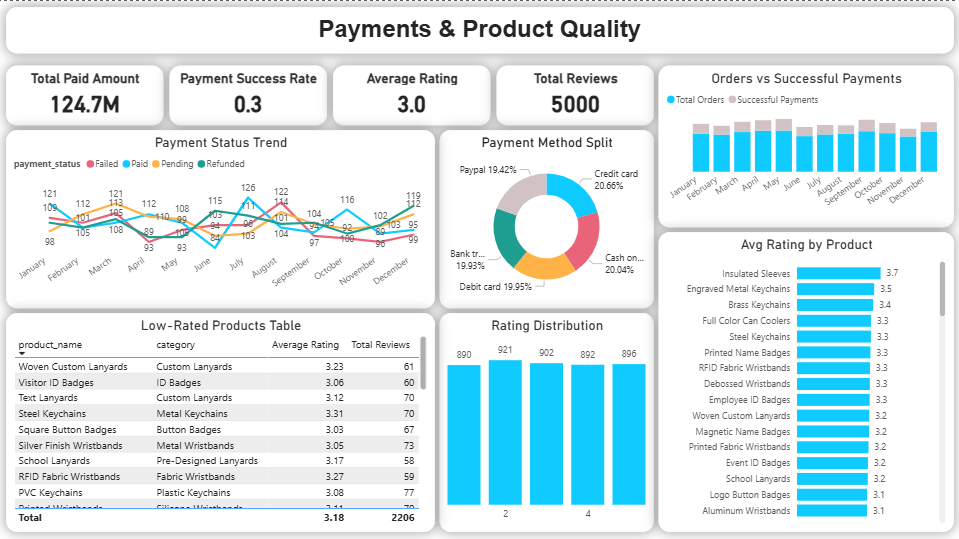

This screenshot's page, from the dashboard's own definition file:
{"tool":"powerbi","page":{"name":"Page 3","canvas":[1280,720],"ordinal":2},"visuals":[{"type":"textbox","box":[8,8,1264,62],"z":0},{"type":"card","title":"Total Paid Amount","fields":{"Values":["wrist_band payments_clean.Total Paid Amount"]},"box":[8,86,210,80],"z":1000},{"type":"card","title":"Payment Success Rate","fields":{"Values":["wrist_band payments_clean.Payment Success Rate"]},"box":[226,86,210,80],"z":2000},{"type":"card","title":"Average Rating","fields":{"Values":["wrist_band reviews_clean.Average Rating"]},"box":[444,86,210,80],"z":3000},{"type":"card","title":"Total Reviews","fields":{"Values":["wrist_band reviews_clean.Total Reviews"]},"box":[662,86,210,80],"z":4000},{"type":"donutChart","title":"Payment Method Split","fields":{"Category":["wrist_band payments_clean.payment_method"],"Y":["wrist_band payments_clean.Total Paid Amount"]},"box":[586,172,286,238],"z":5000},{"type":"lineChart","title":"Payment Status Trend","fields":{"Category":["wrist_band payments_clean.payment_date.Variation.Date Hierarchy.Month"],"Y":["wrist_band payments_clean.Total Payments"],"Series":["wrist_band payments_clean.payment_status"]},"box":[8,172,572,238],"z":6000},{"type":"columnChart","title":"Orders vs Successful Payments","fields":{"Category":["wrist_band orders_clean.order_date.Variation.Date Hierarchy.Month"],"Y":["wrist_band orders_clean.Total Orders","wrist_band payments_clean.Successful Payments"]},"box":[878,86,394,216],"z":7000},{"type":"columnChart","title":"Rating Distribution","fields":{"Category":["wrist_band reviews_clean.rating"],"Y":["wrist_band reviews_clean.Total Reviews"]},"box":[586,416,286,292],"z":8000},{"type":"barChart","title":"Avg Rating by Product","fields":{"Category":["wrist_band products_clean.product_name"],"Y":["wrist_band reviews_clean.Average Rating"]},"box":[878,308,394,400],"z":9000},{"type":"tableEx","title":"Low-Rated Products Table","fields":{"Values":["wrist_band products_clean.product_name","wrist_band products_clean.category","wrist_band reviews_clean.Average Rating","wrist_band reviews_clean.Total Reviews"]},"box":[8,416,572,292],"z":10000}]}

Visuals, with their boxes in screenshot pixels (x1, y1, x2, y2), scaled from the page's 1280x720 canvas onto the 959x539 screenshot:
textbox: 6:6:953:52
"Total Paid Amount" card: 6:64:163:124
"Payment Success Rate" card: 169:64:327:124
"Average Rating" card: 333:64:490:124
"Total Reviews" card: 496:64:653:124
"Payment Method Split" donutChart: 439:129:653:307
"Payment Status Trend" lineChart: 6:129:435:307
"Orders vs Successful Payments" columnChart: 658:64:953:226
"Rating Distribution" columnChart: 439:311:653:530
"Avg Rating by Product" barChart: 658:231:953:530
"Low-Rated Products Table" tableEx: 6:311:435:530
